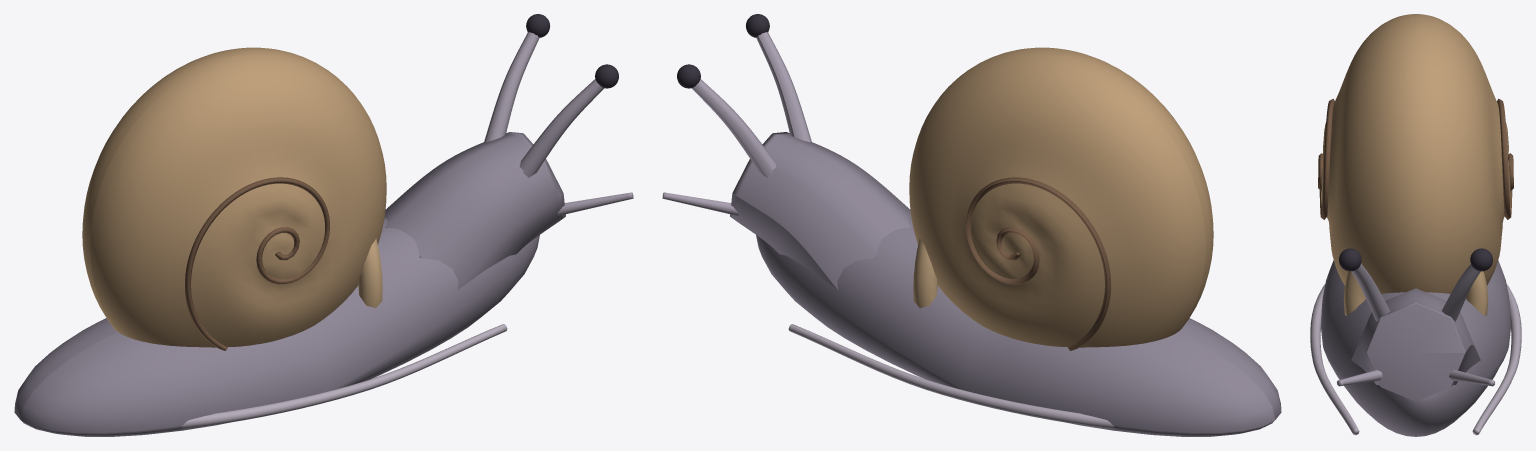
File: props_p3_items__p3_snail.glb
The picture shows the model from 3 angles, left to right: view 1: azimuth 30°, elevation 25°; view 2: azimuth 150°, elevation 25°; view 3: azimuth 270°, elevation 25°; orthographic projection. The views are drawn at different scales.
Parts seen in each view (by area): view 1: continuous_shell_whorls, continuous_foot, raised_neck, reference_static_surfaces (×5), shell_aperture_lip; view 2: continuous_shell_whorls, continuous_foot, raised_neck, reference_static_surfaces (×5), shell_aperture_lip; view 3: continuous_shell_whorls, continuous_foot, raised_neck, reference_static_surfaces (×5), shell_aperture_lip.
Part boxes in pixels (x1,y1,x2,y2): continuous_shell_whorls: (82,47,386,347); continuous_foot: (14,218,539,436); raised_neck: (384,132,565,290); reference_static_surfaces (×5): (181,14,633,428); shell_aperture_lip: (358,238,382,308); continuous_shell_whorls: (909,47,1213,347); continuous_foot: (756,218,1281,436); raised_neck: (730,132,911,289); reference_static_surfaces (×5): (662,14,1114,428); shell_aperture_lip: (913,238,937,308); continuous_shell_whorls: (1321,14,1510,293); continuous_foot: (1321,260,1510,436); raised_neck: (1351,288,1480,401); reference_static_surfaces (×5): (1310,98,1521,435); shell_aperture_lip: (1343,263,1488,315).
Bounding box in the file's own units: 0.1093 × 0.0616 × 0.0366.
